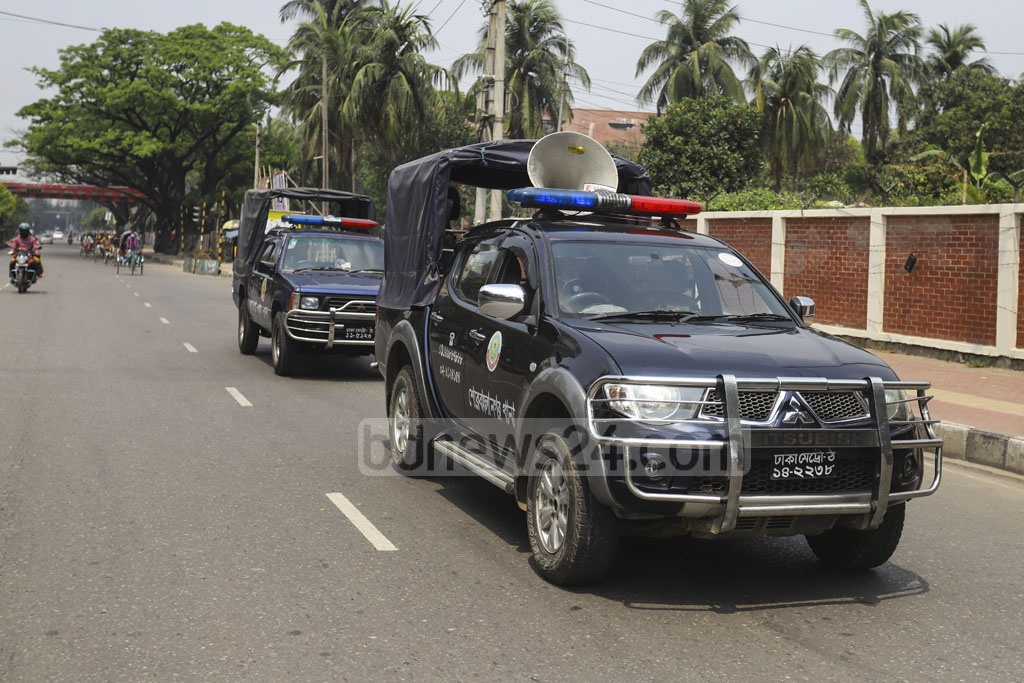car: (39, 232, 53, 246), (52, 230, 64, 240)
motorbike: (6, 222, 42, 295), (66, 230, 74, 246)
policecar: (372, 129, 948, 585), (232, 185, 385, 378)
rickshaw: (115, 230, 145, 277), (95, 232, 110, 264), (79, 231, 96, 259)
